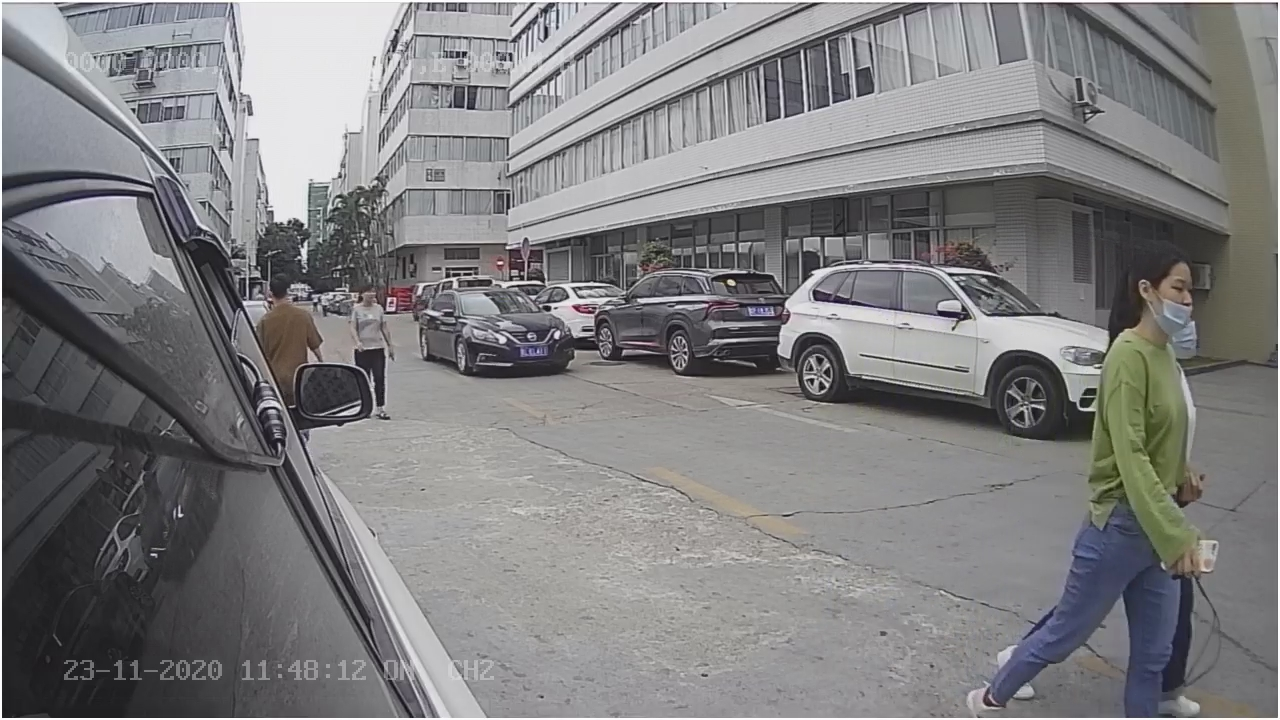person: (1071, 232, 1225, 593)
